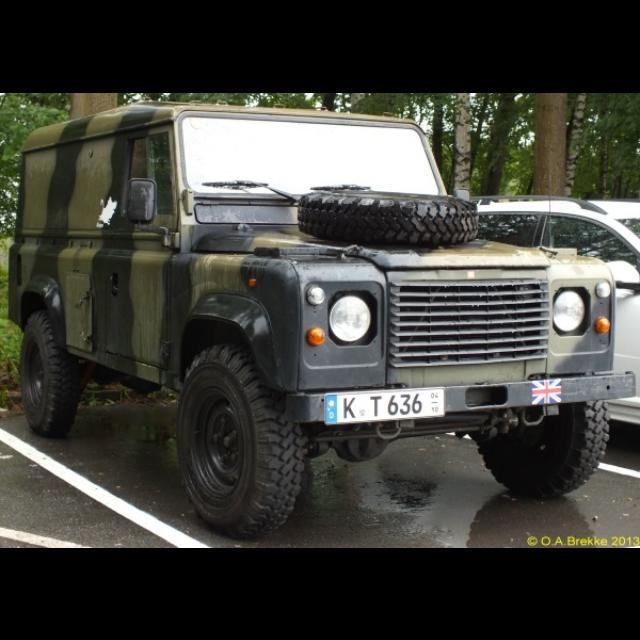license-plates: (325, 390, 445, 424)
